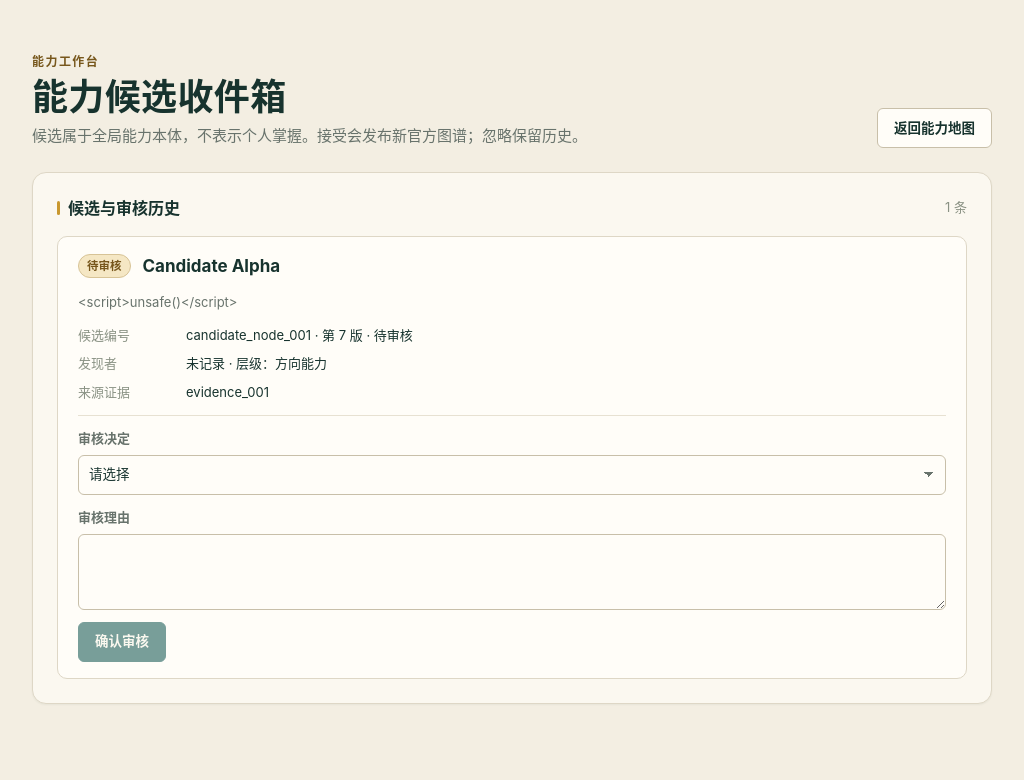
Scenario: keeps confirmed receipt when post-success read fails
Expected: the heading "Candidate Alpha" is shown, [142,253,280,280]
Select "接受：发布新官方图谱" in the dropdown labelled "审核决定". click: (512, 475)
box: [78,455,946,495]
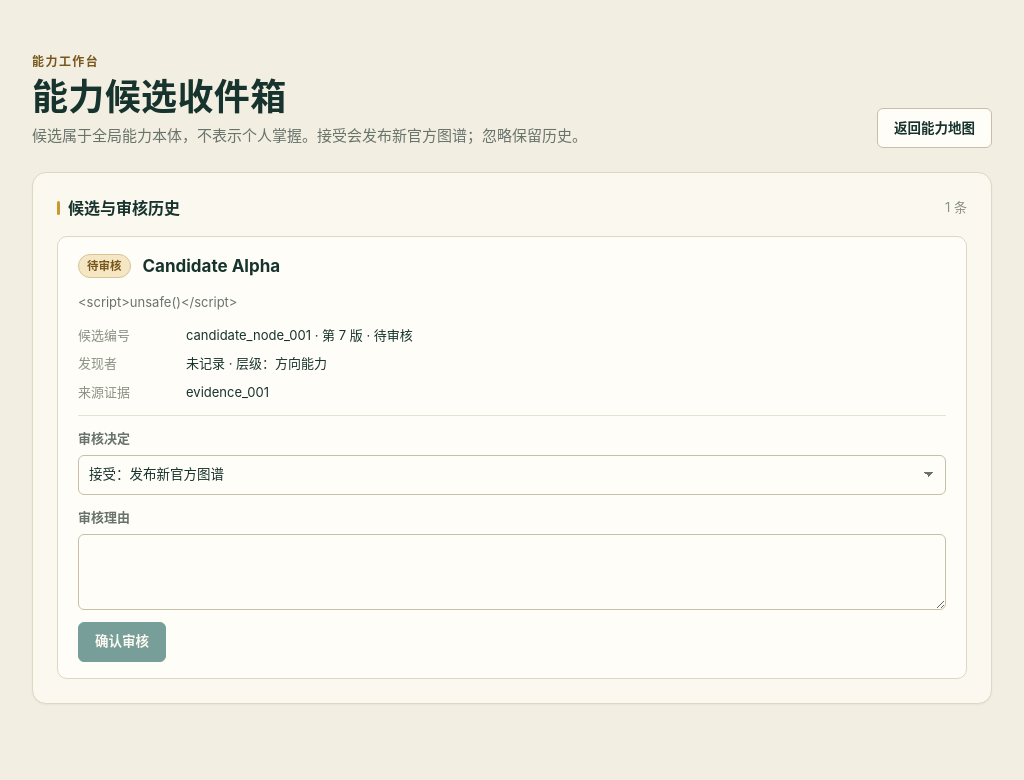
Type "Reviewed evidence" into the text box labelled "审核理由". click: (512, 572)
box: [78,534,946,610]
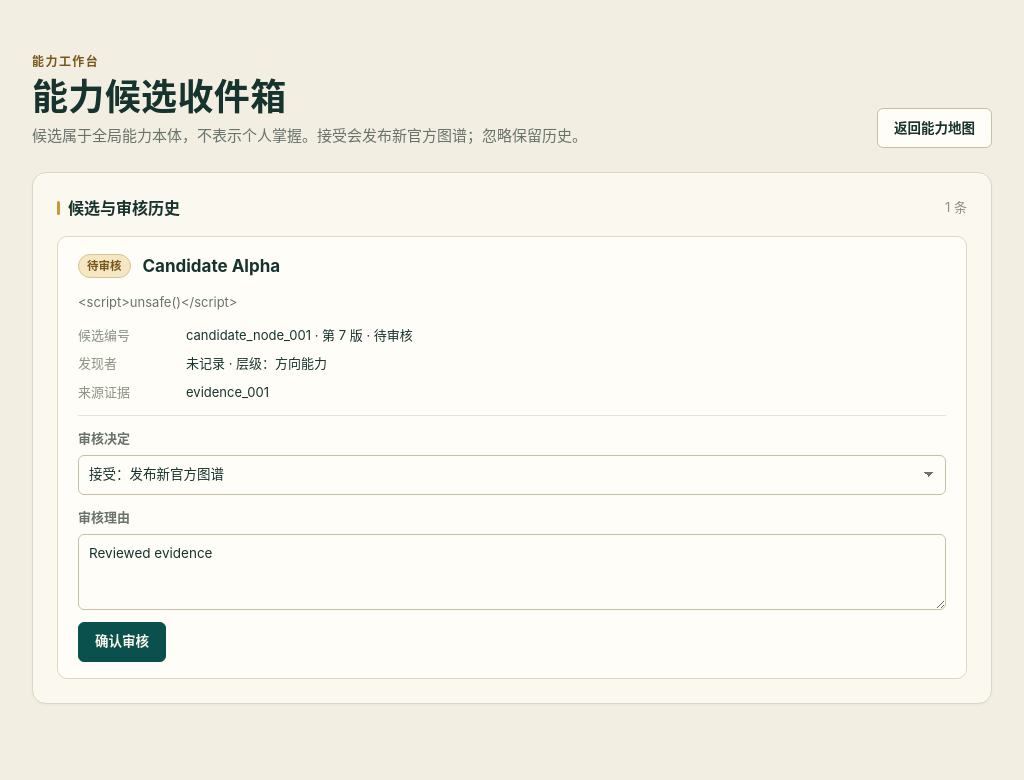
Click the button "确认审核". click: (122, 642)
box: [78,622,166,662]
(page scrolled)
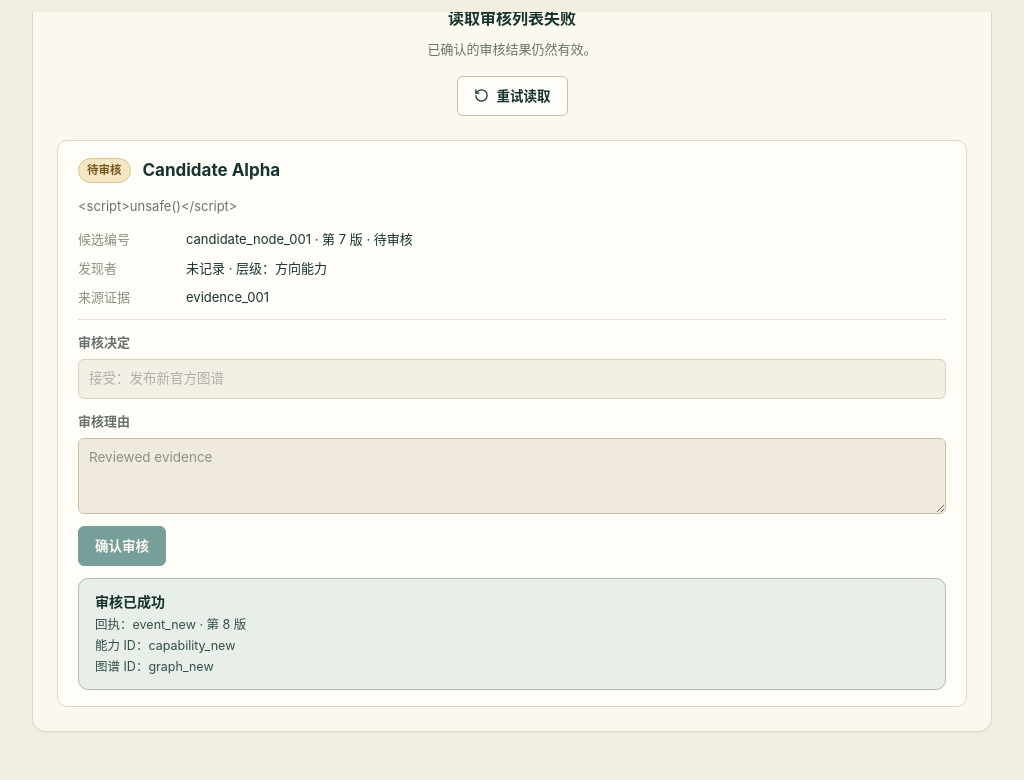
Result: the heading "审核已成功" is shown at [95,593,165,610]
Result: the heading "读取审核列表失败" is shown at [448,12,576,31]
Result: the button "确认审核" is disabled at [78,526,166,566]
